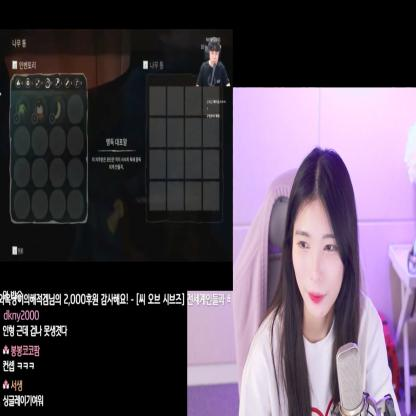streamer: (240, 148, 400, 416), (195, 36, 232, 87)
